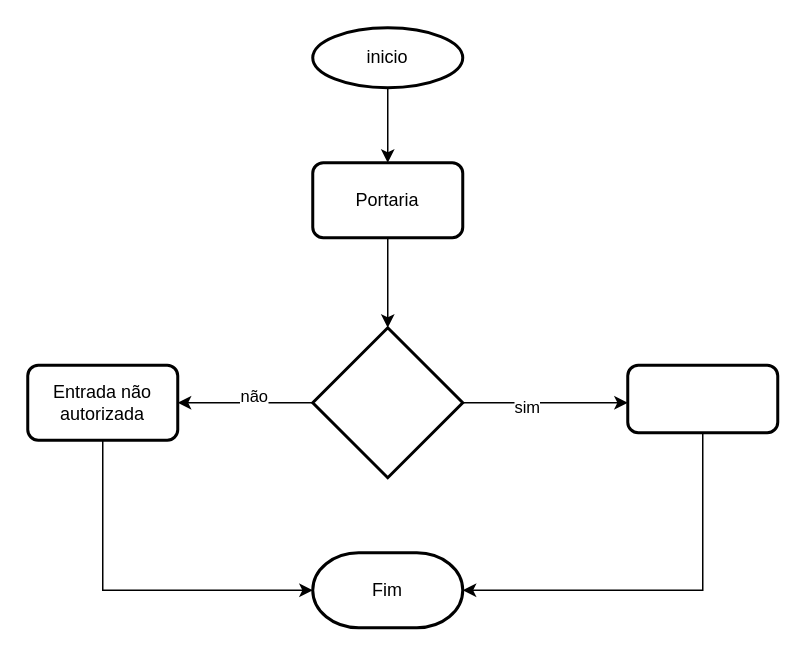
Some shapes in this 804 by 654 pixel diagram are drawn without their labels. The shapes that lost their labels are listed below. From the top down, each one's box as (x1, y1, x2, y2) in pixels, then its label:
(310, 326, 464, 478): Funcionario autorizado?
(626, 363, 778, 434): Entrada autorizada
